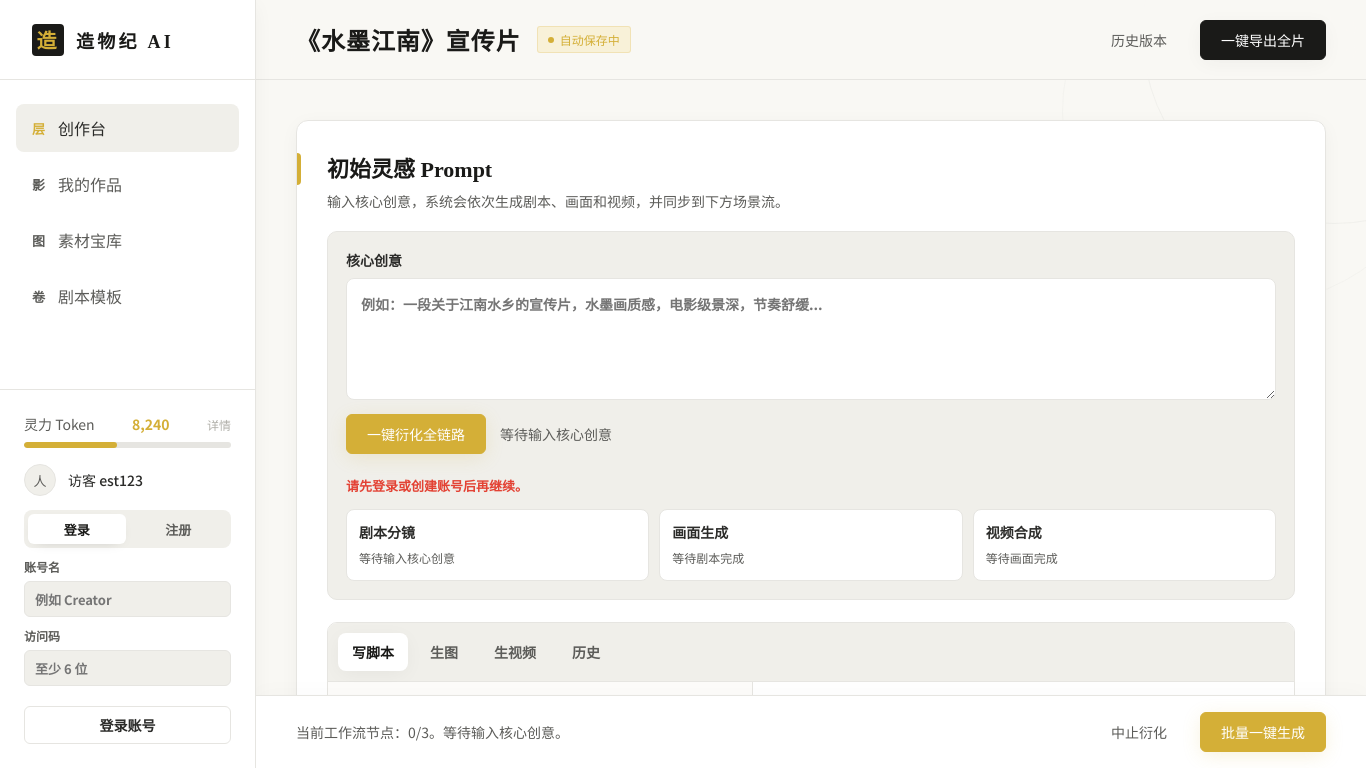
Test: WorkflowShell › switches sidebar sections and explains token usage
Expected: the text "访客 est123" is shown, [68,470,143,490]
Click the button "影 我的作品". click: (128, 184)
box: [16,160,239,208]
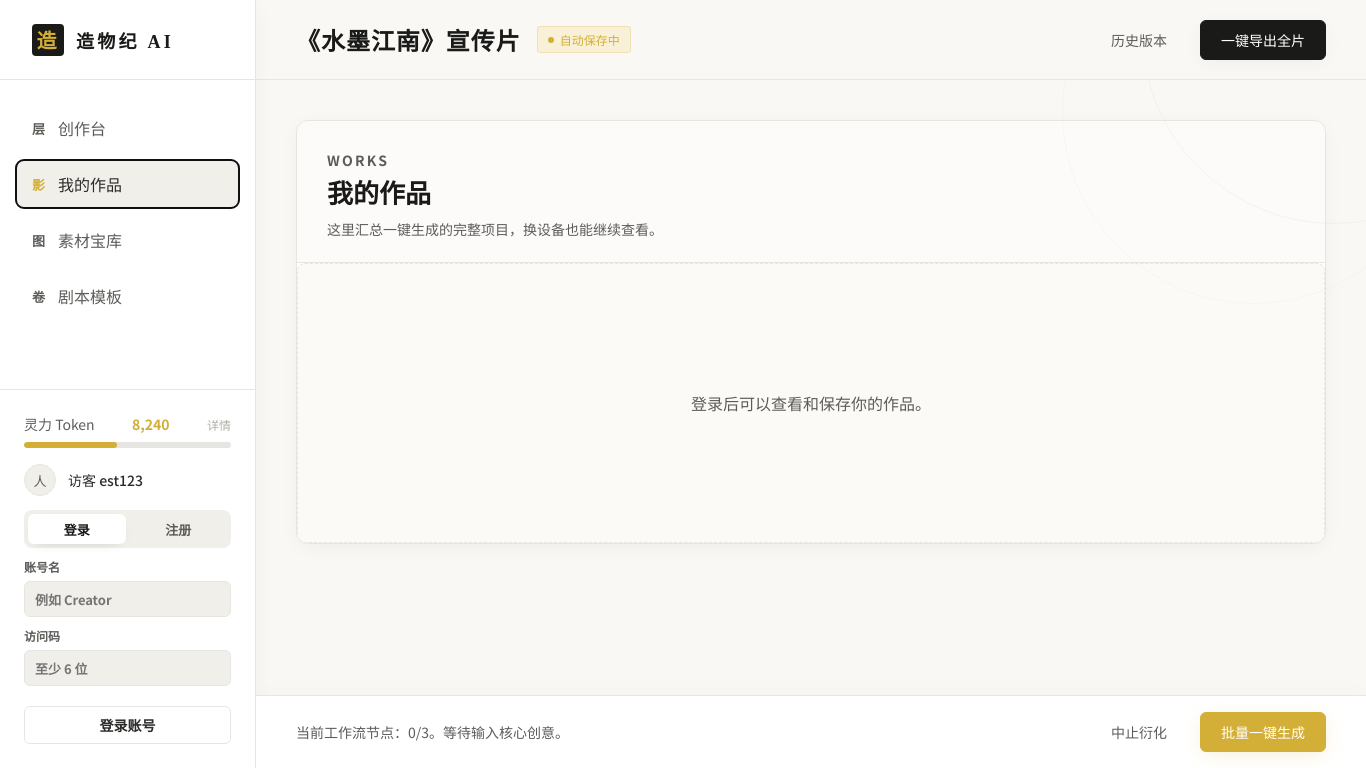
Expected: the heading "我的作品" is shown, [327,180,431,209]
Expected: the text "这里汇总一键生成的完整项目，换设备也能继续查看。" is shown, [327,219,663,239]
Click the button "图 素材宝库". click: (128, 240)
box: [16,216,239,264]
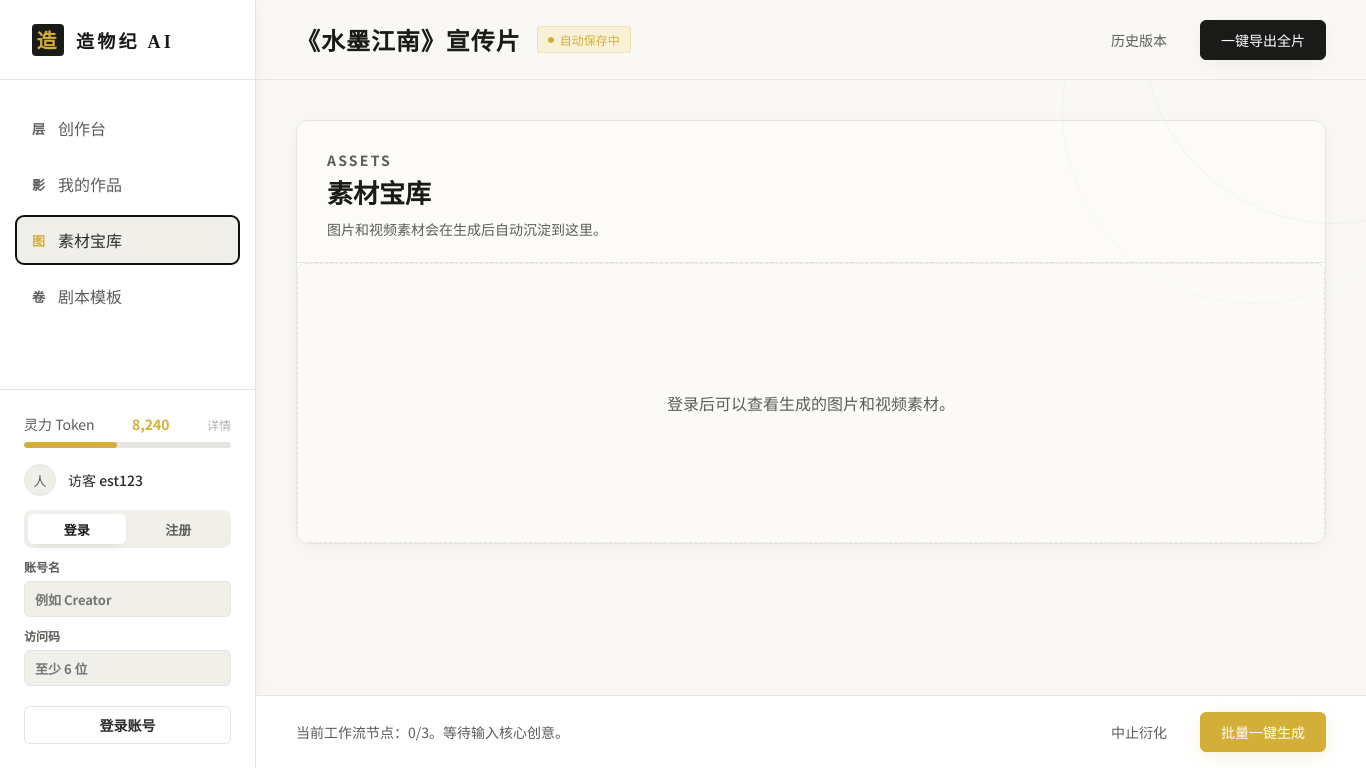
Expected: the heading "素材宝库" is shown, [327,180,431,209]
Expected: the text "图片和视频素材会在生成后自动沉淀到这里。" is shown, [327,219,607,239]
Click the button "卷 剧本模板". click: (128, 296)
box: [16,272,239,320]
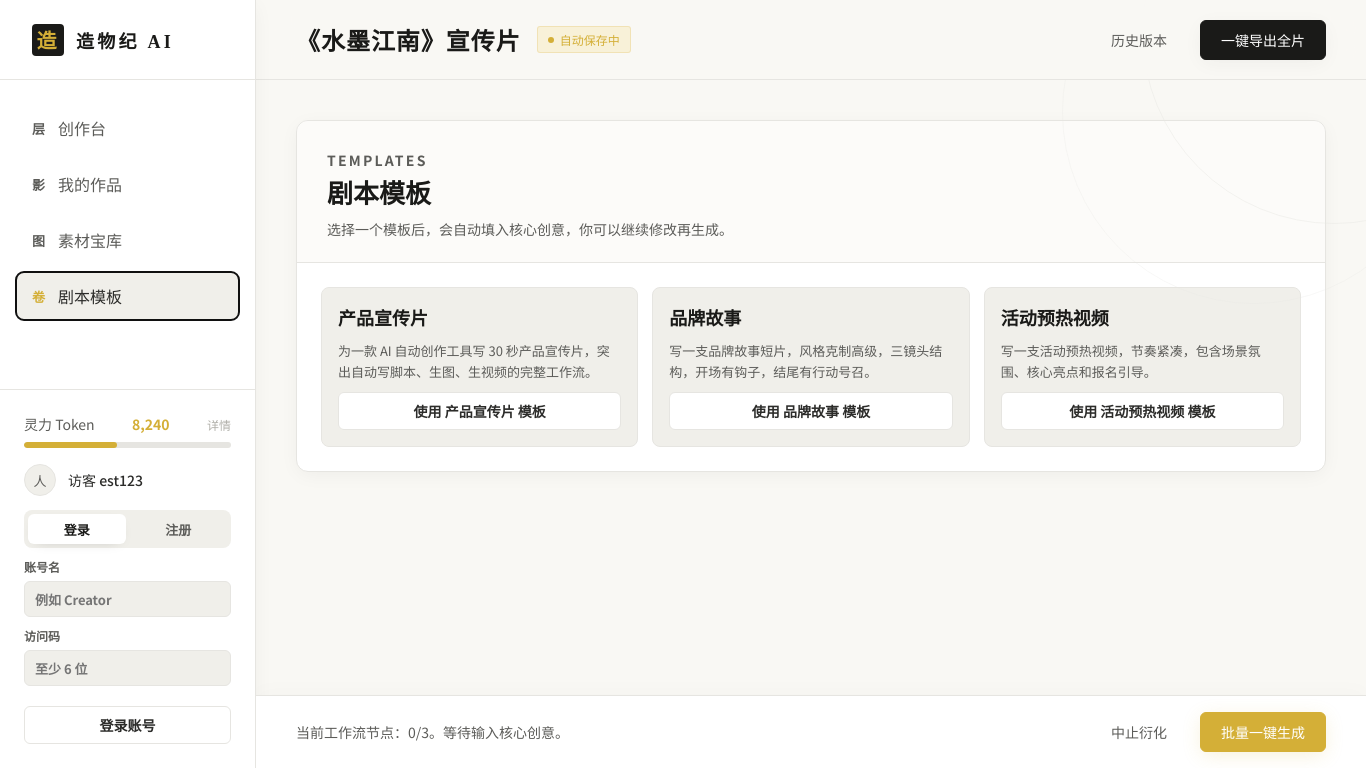
Expected: the heading "剧本模板" is shown, [327,180,431,209]
Expected: the button "使用 产品宣传片 模板" is shown, [338,392,621,430]
Click the button "灵力 Token 8,240". click: (128, 424)
box: [24,414,231,434]
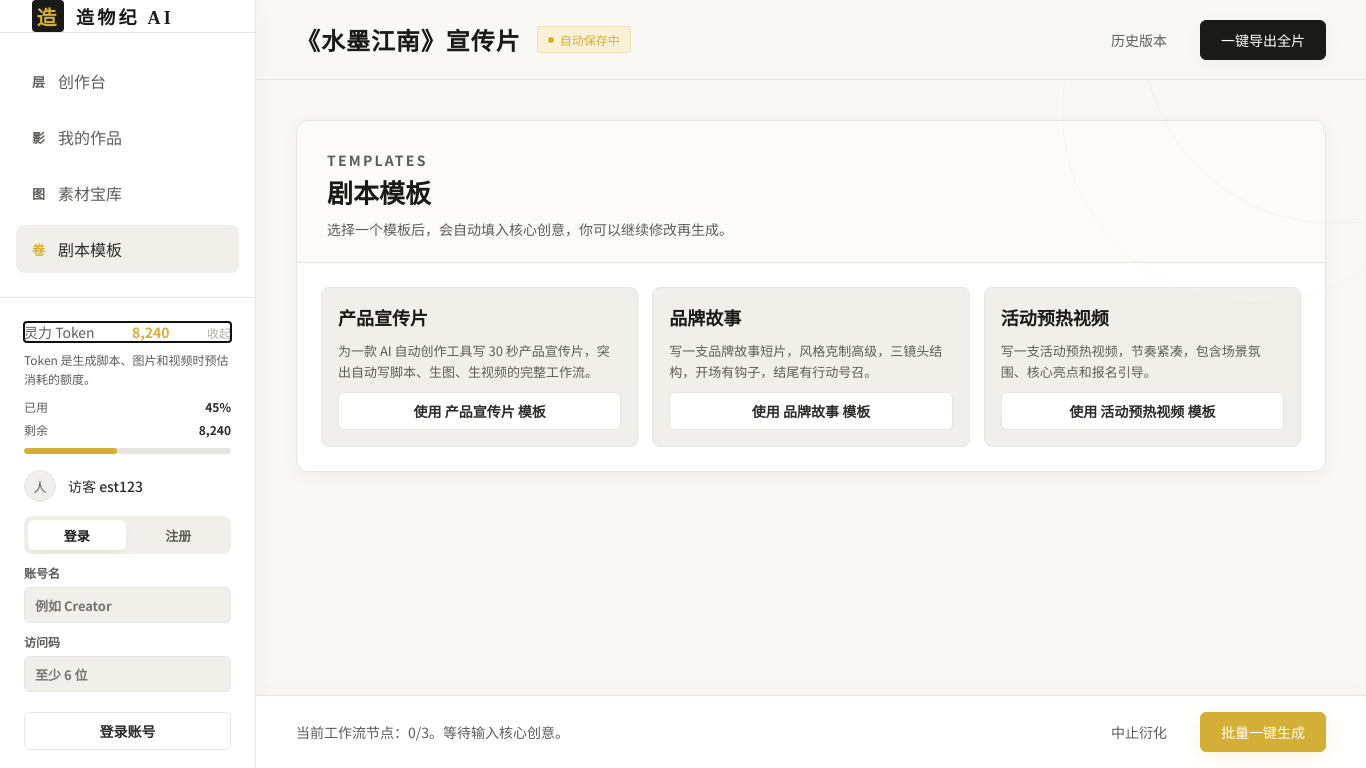
Expected: the text "Token 是生成脚本、图片和视频时预估消耗的额度。" is shown, [24,350,231,388]
